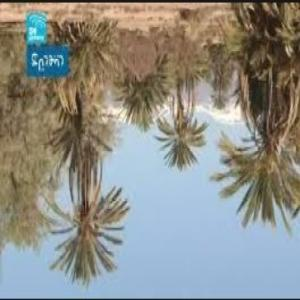palm tree: (208, 2, 299, 234)
